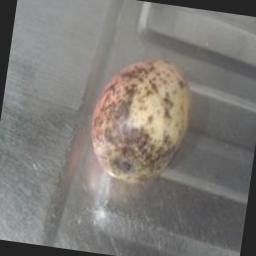Mango Rotten: (70, 38, 206, 218)
